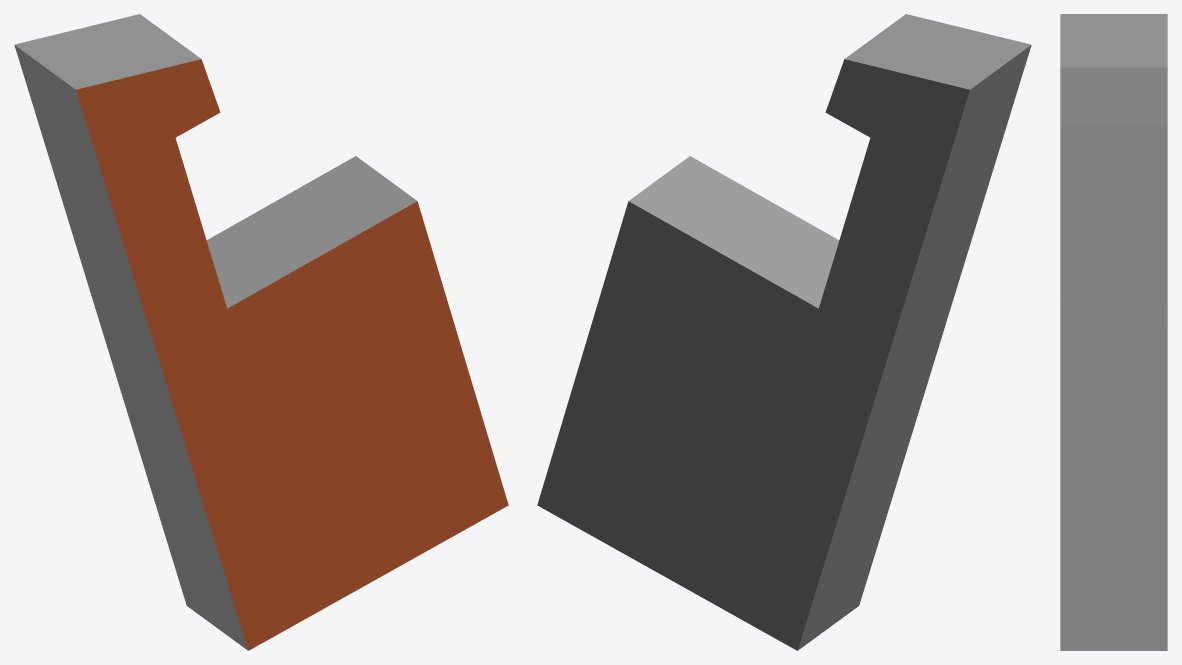
Rendered from construction_1744_assumed_A_Casa_h6m.obj.
3 views of the same model, side by side, from view 1: azimuth 30°, elevation 25°; view 2: azimuth 150°, elevation 25°; view 3: azimuth 270°, elevation 25° (orthographic). The views are drawn at different scales.
Visible parts, largest first — view 1: construction_1744_assumed_A_Casa; view 2: construction_1744_assumed_A_Casa; view 3: construction_1744_assumed_A_Casa.
Boxes of the visible parts, x1,y1,x2,y2 form: construction_1744_assumed_A_Casa: (14, 14, 508, 650); construction_1744_assumed_A_Casa: (537, 14, 1031, 650); construction_1744_assumed_A_Casa: (1060, 14, 1167, 650).
Size of the model in its own units: 24.31 by 32.38 by 6.
